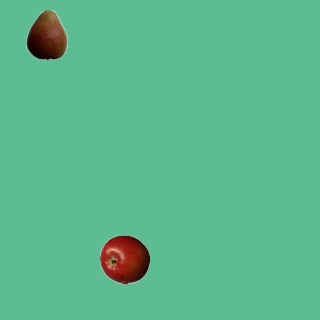Apple Braeburn: (99, 234, 149, 284)
Pear Forelle: (21, 9, 71, 59)
